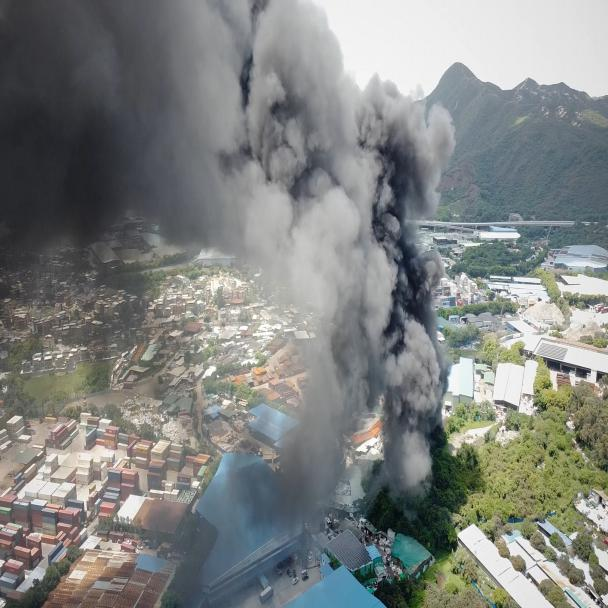smoke: (0, 0, 479, 568)
